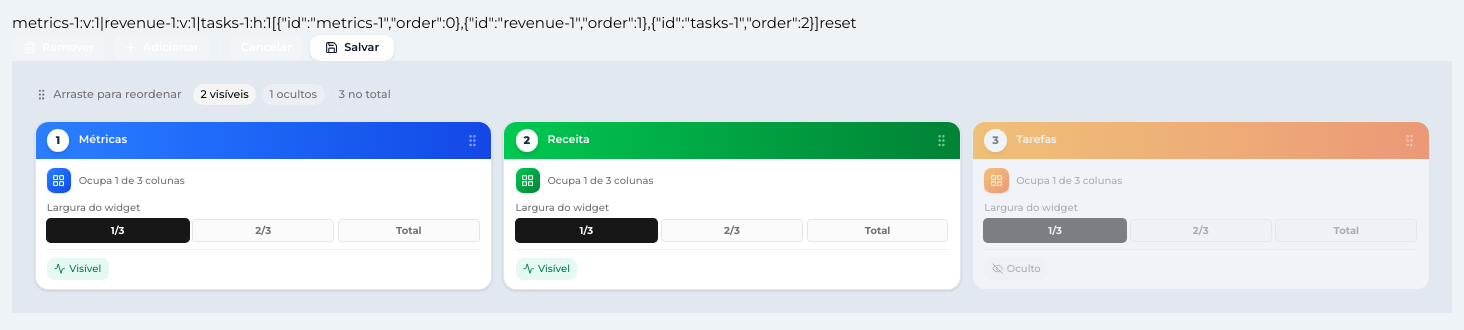
it: Item 4 — contadores ao lado da instrução de reordenar › mostra 'Arraste para reordenar' e os contadores visíveis/ocultos/total juntos, e eles reagem ao ocultar
Check: the text "2 visíveis" is shown, box [193,84,256,105]
Check: the text "1 ocultos" is shown, box [262,84,324,105]
Note: ocultar "Métricas" → 1 visível / 2 ocultos
Click the button with aria-label "ocultar widget métricas": [78, 269] box [47,258,109,280]
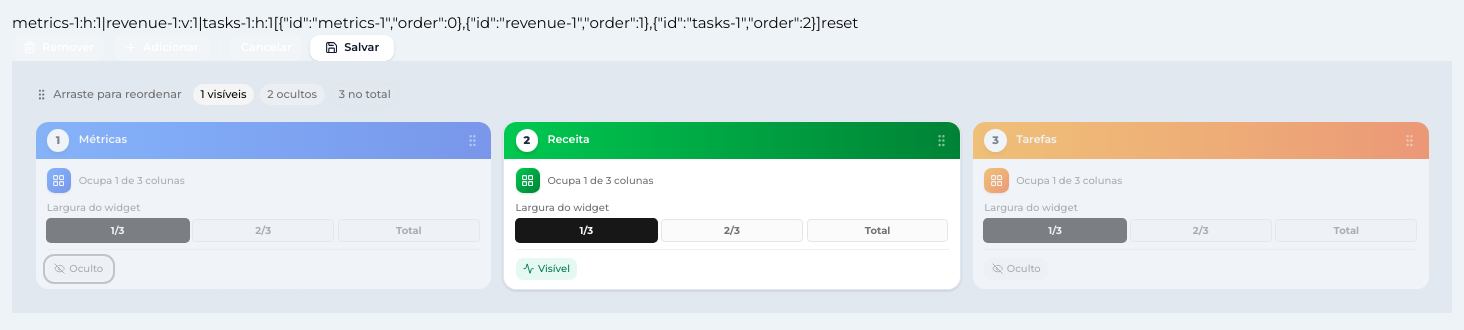
Check: the text "1 visíveis" is shown, box [193,84,254,105]
Check: the text "2 ocultos" is shown, box [260,84,325,105]
